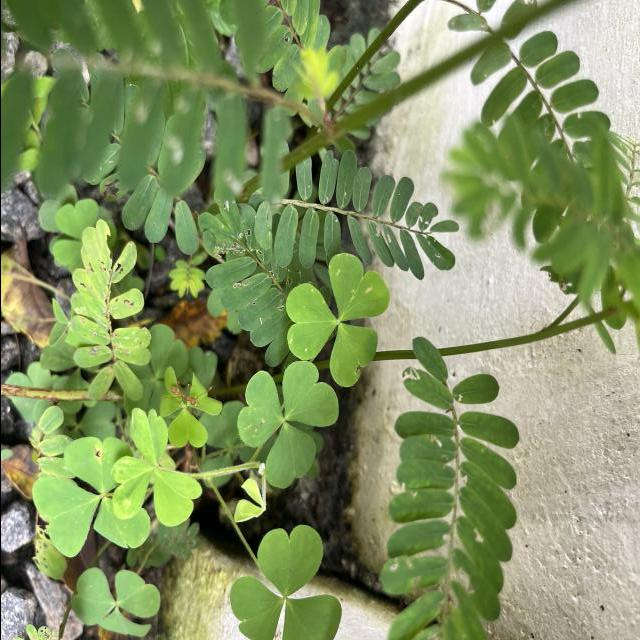Oxalis corniculata: (30, 434, 152, 558), (284, 252, 390, 388), (235, 360, 338, 490), (229, 523, 343, 640), (111, 407, 202, 527), (68, 567, 162, 639)
